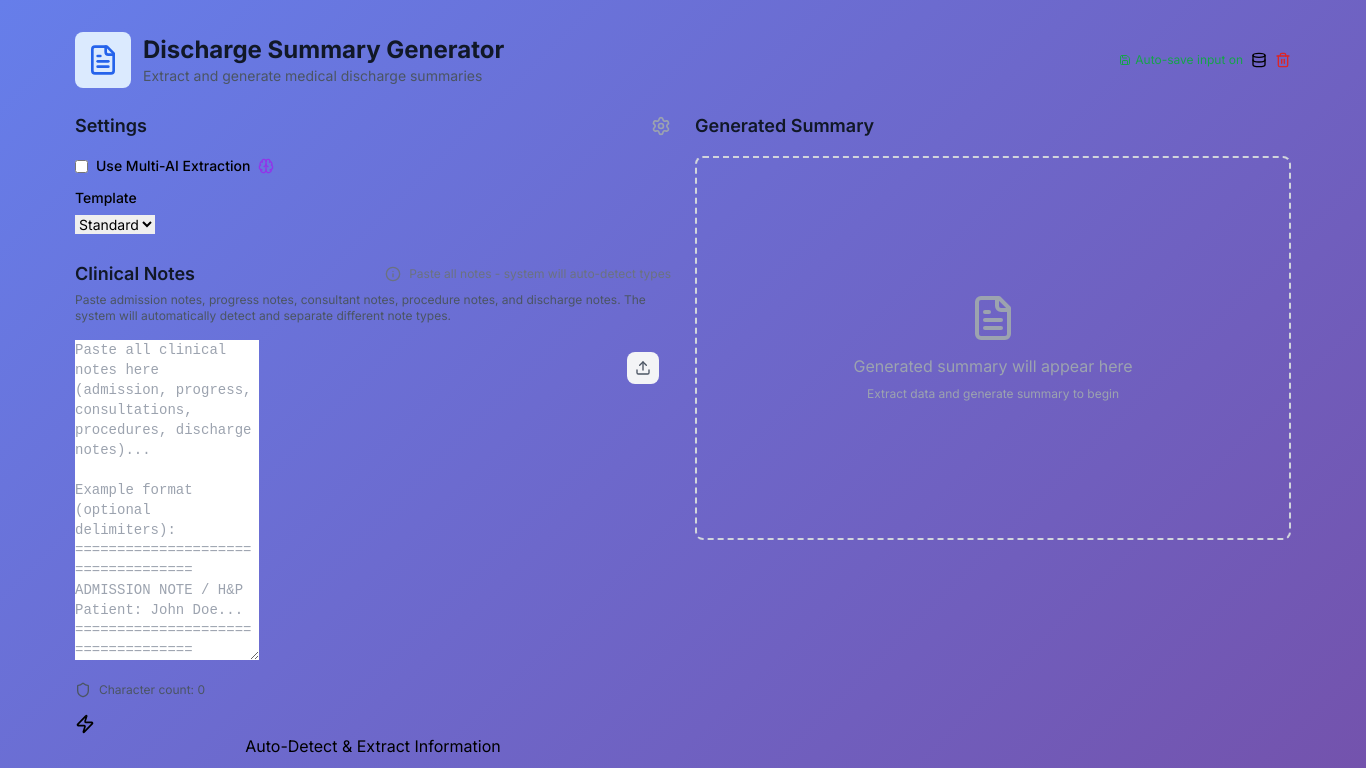
Scenario: DischargeSummaryGenerator Component › shows character count
This screenshot has width=1366, height=768.
Type "Test" into the text box with placeholder "Paste all clinical notes here" at (167, 500), box [75,340,259,660]
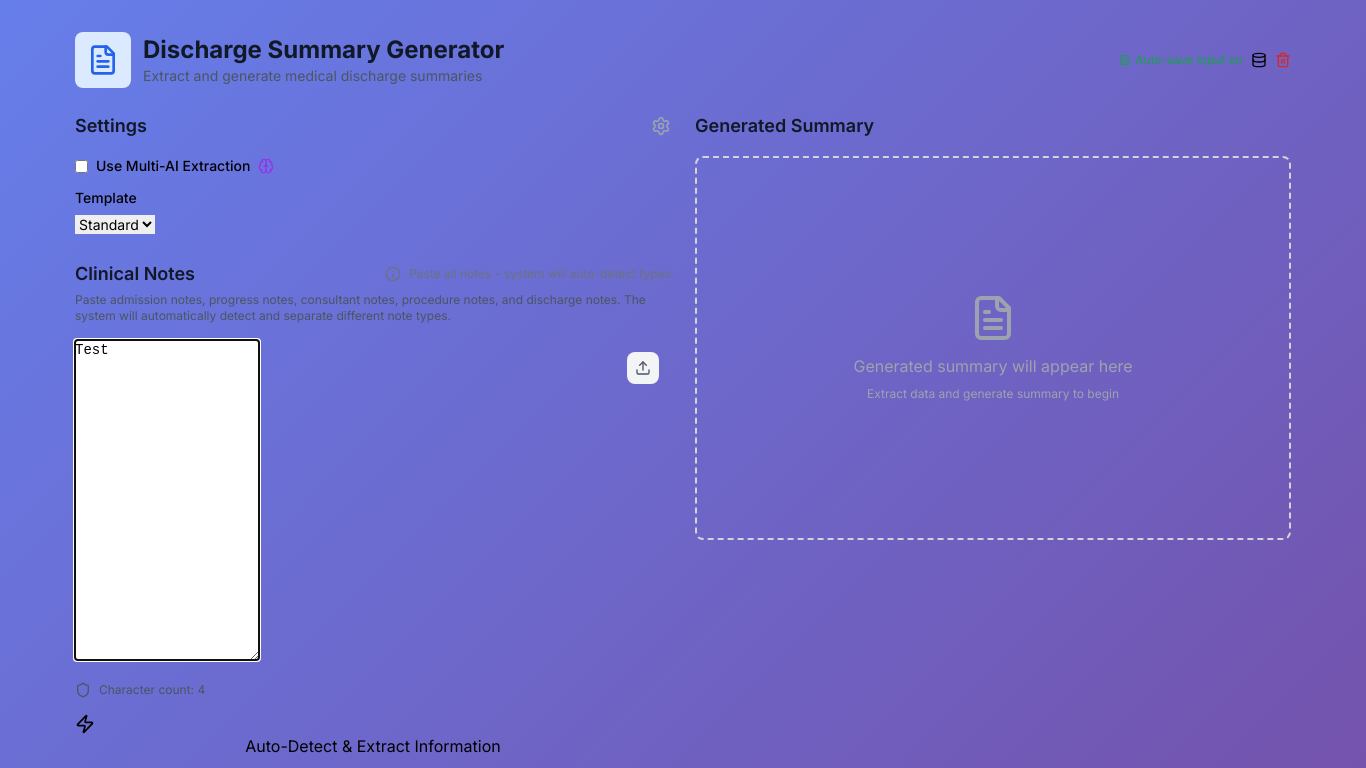
Expected: the text "Character count: 4" is shown, [99,682,205,698]
